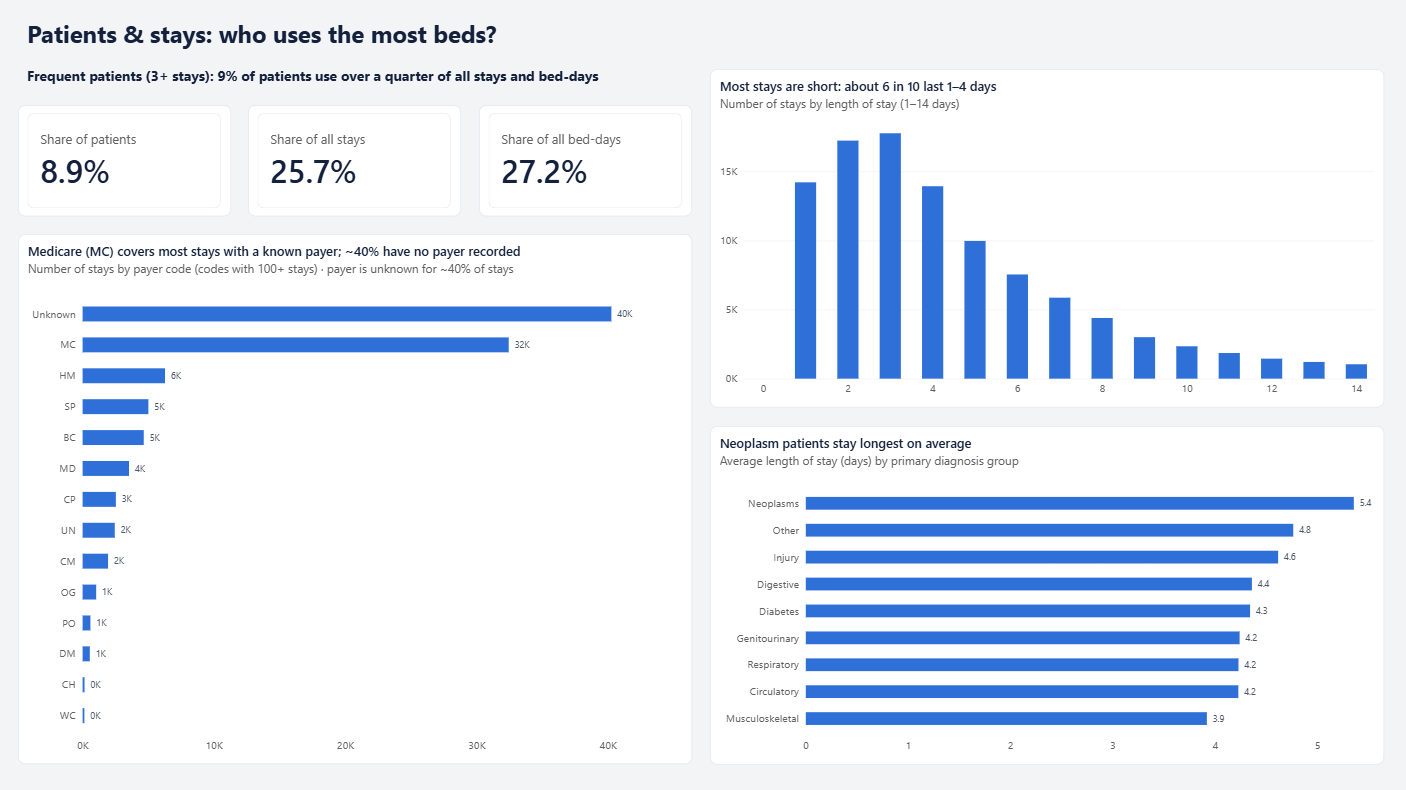

This screenshot's page, from the dashboard's own definition file:
{"tool":"powerbi","page":{"name":"Patients & stays","canvas":[1920,1080],"ordinal":3},"visuals":[{"type":"cardVisual","fields":{"Data":["Sum(MART_FREQUENT_PATIENTS.SHARE_OF_PATIENTS)"]},"box":[40,152,286.7,150],"z":0},{"type":"cardVisual","fields":{"Data":["Sum(MART_FREQUENT_PATIENTS.SHARE_OF_ENCOUNTERS)"]},"box":[350.7,152,286.7,150],"z":1000},{"type":"cardVisual","fields":{"Data":["Sum(MART_FREQUENT_PATIENTS.SHARE_OF_BED_DAYS)"]},"box":[661.3,152,286.7,150],"z":2000},{"type":"columnChart","title":"Most stays are short: about 6 in 10 last 1–4 days","fields":{"Category":["FCT_ENCOUNTER.TIME_IN_HOSPITAL"],"Y":["FCT_ENCOUNTER.Encounters"]},"box":[972,104,908,456],"z":3000},{"type":"clusteredBarChart","title":"Neoplasm patients stay longest on average","fields":{"Category":["MART_LENGTH_OF_STAY.PRIMARY_DIAGNOSIS_GROUP"],"Y":["Sum(MART_LENGTH_OF_STAY.ALOS_DAYS)"]},"box":[972,584,908,456],"z":4000},{"type":"clusteredBarChart","title":"Medicare (MC) covers most stays with a known payer; ~40% have no payer recorded","fields":{"Category":["DIM_PAYER.PAYER"],"Y":["FCT_ENCOUNTER.Encounters"]},"box":[40,326,908,714],"z":5000},{"type":"textbox","box":[40,90,907.5,53.8],"z":19000},{"type":"textbox","box":[40,24,1840,56],"z":20000}]}

Visuals, with their boxes in screenshot pixels (x1, y1, x2, y2), scaled from the page's 1920x1080 canvas onto the 1406x790 screenshot:
cardVisual - Sum(MART_FREQUENT_PATIENTS.SHARE_OF_PATIENTS): (29, 111, 239, 221)
cardVisual - Sum(MART_FREQUENT_PATIENTS.SHARE_OF_ENCOUNTERS): (257, 111, 467, 221)
cardVisual - Sum(MART_FREQUENT_PATIENTS.SHARE_OF_BED_DAYS): (484, 111, 694, 221)
"Most stays are short: about 6 in 10 last 1–4 days" columnChart: (712, 76, 1377, 410)
"Neoplasm patients stay longest on average" clusteredBarChart: (712, 427, 1377, 761)
"Medicare (MC) covers most stays with a known payer; ~40% have no payer recorded" clusteredBarChart: (29, 238, 694, 761)
textbox: (29, 66, 694, 105)
textbox: (29, 18, 1377, 59)
